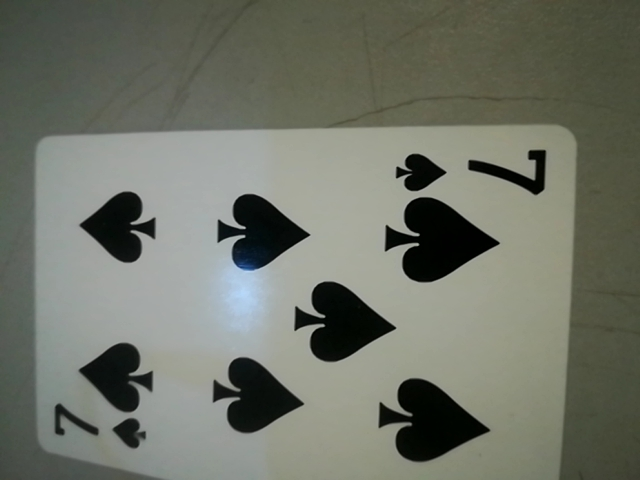ht 7: (395, 141, 557, 201)
